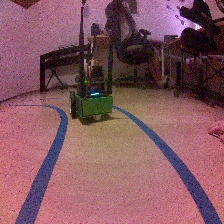rob: (68, 59, 113, 122)
